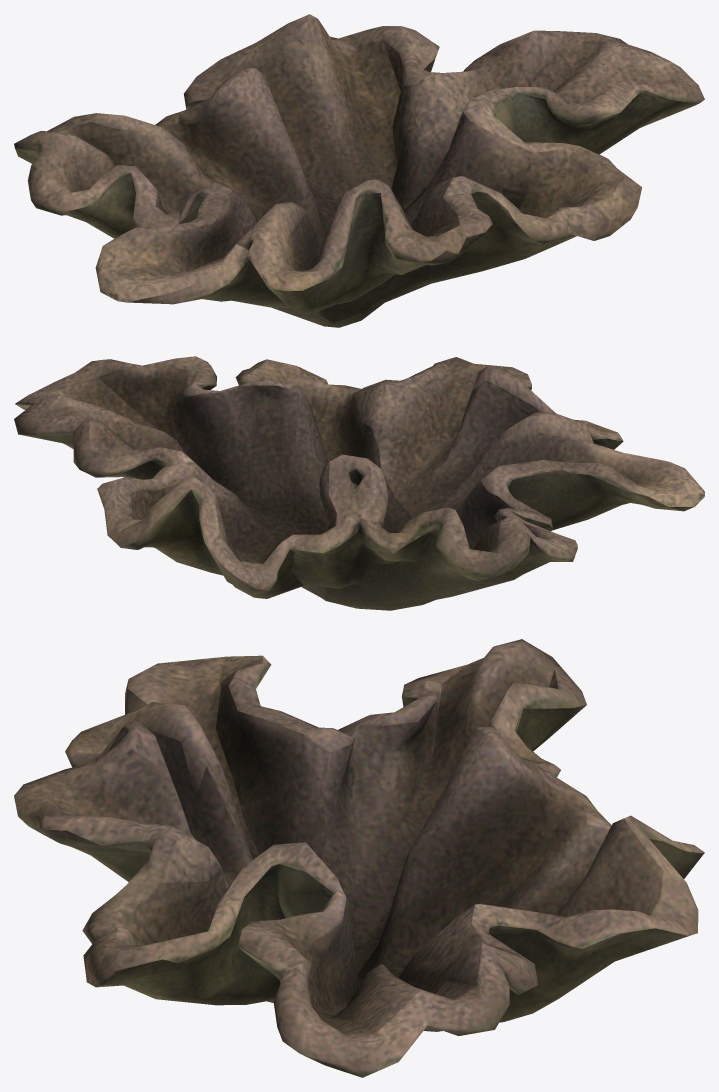
The model's file is Coral V9.fbx.
3 renders of one model, top to bottom at view 1: azimuth 30°, elevation 25°; view 2: azimuth 150°, elevation 25°; view 3: azimuth 270°, elevation 25°, orthographic. The views are drawn at different scales.
Visible parts, largest first — view 1: Coral V9; view 2: Coral V9; view 3: Coral V9.
Boxes of the visible parts, x1,y1,x2,y2 form: Coral V9: (14, 14, 704, 327); Coral V9: (14, 356, 704, 610); Coral V9: (14, 639, 704, 1077).
Bounding box in the file's own units: 68.16 × 21.42 × 49.1.
